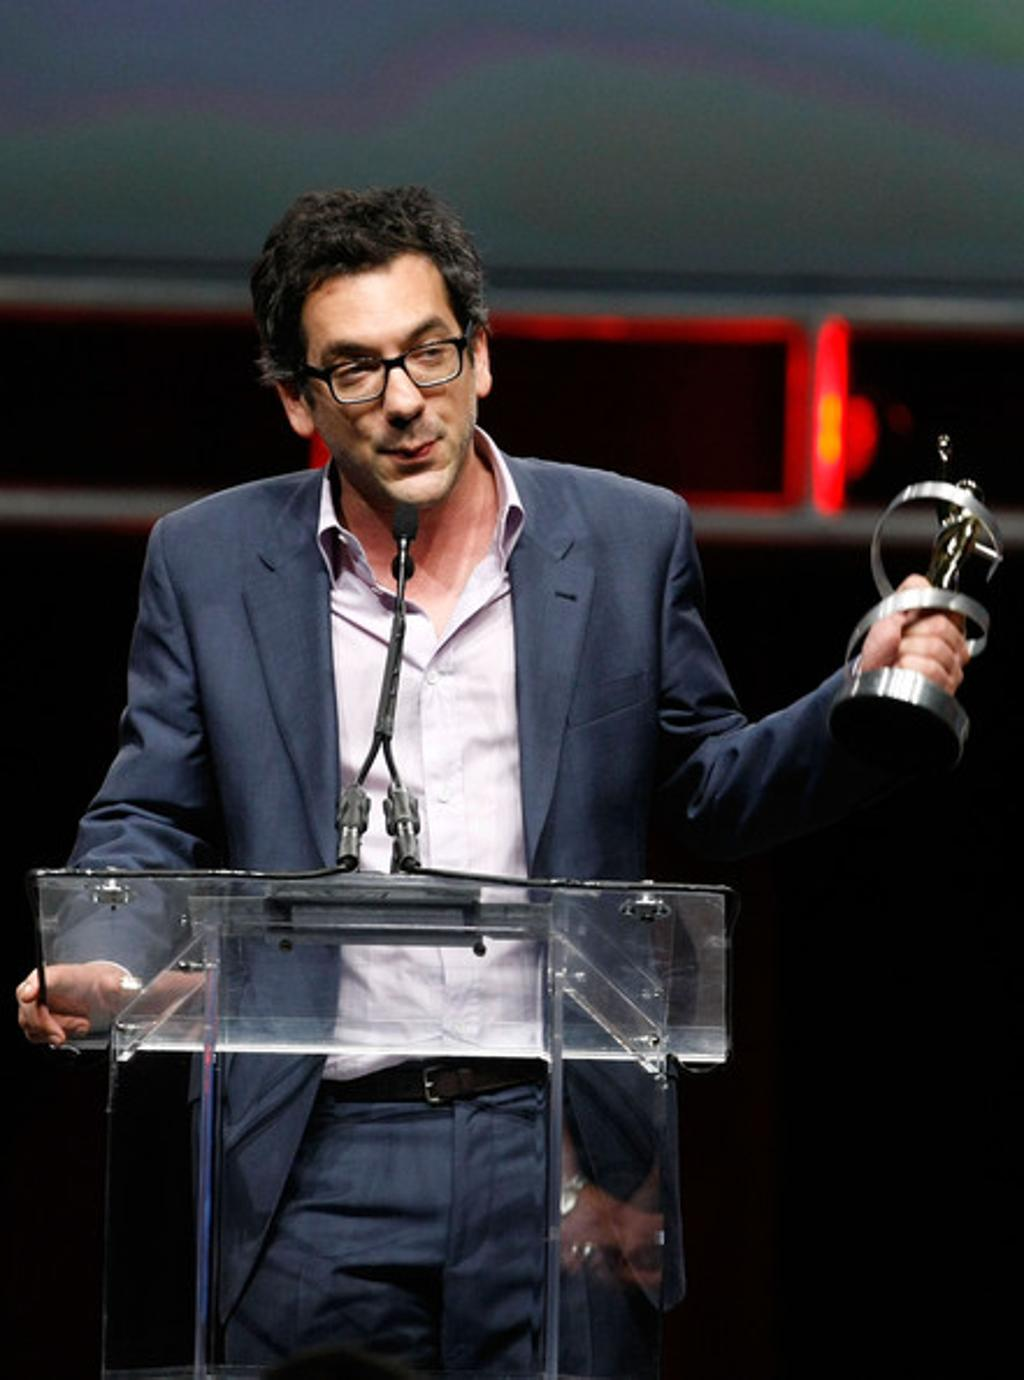face: (302, 248, 477, 507)
